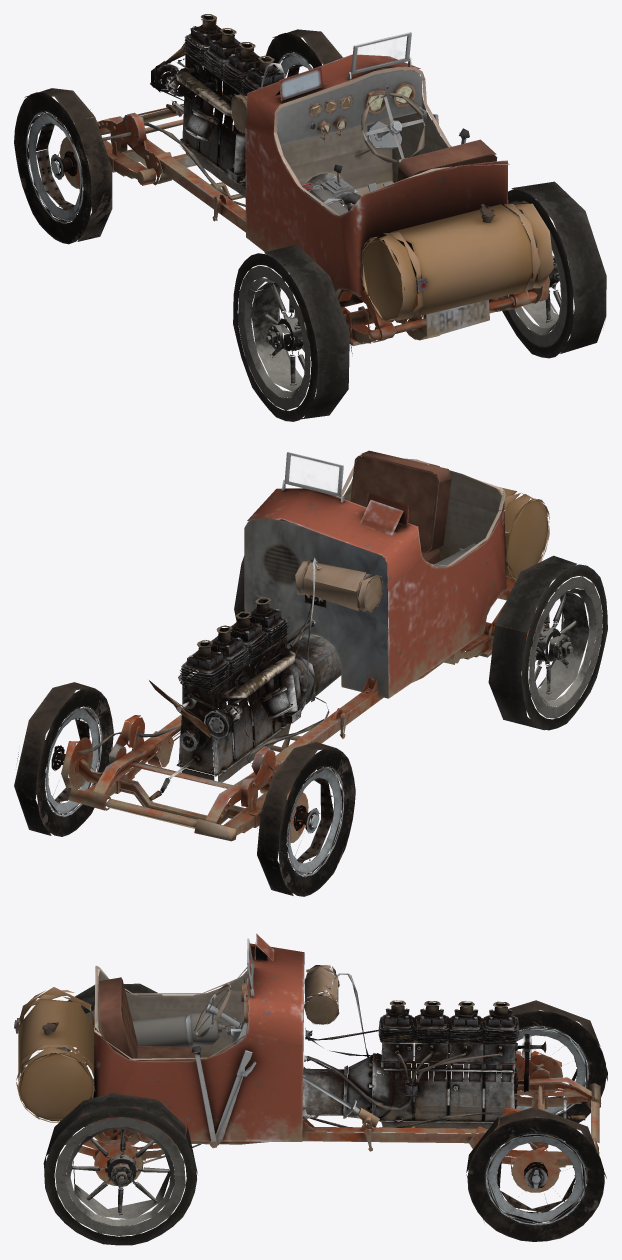
The model's file is vintage.glb.
3 views of the same model, one above another, from view 1: azimuth 30°, elevation 25°; view 2: azimuth 150°, elevation 25°; view 3: azimuth 270°, elevation 25° (orthographic). The views are drawn at different scales.
Visible parts, largest first — view 1: vintage; view 2: vintage; view 3: vintage.
Part boxes in pixels (x1,y1,x2,y2): vintage: (14,14,606,421); vintage: (14,450,607,896); vintage: (14,933,607,1245).
Bounding box in the file's own units: 1.9 × 1.66 × 3.61.
Materials: 4 (4 with a texture image).
